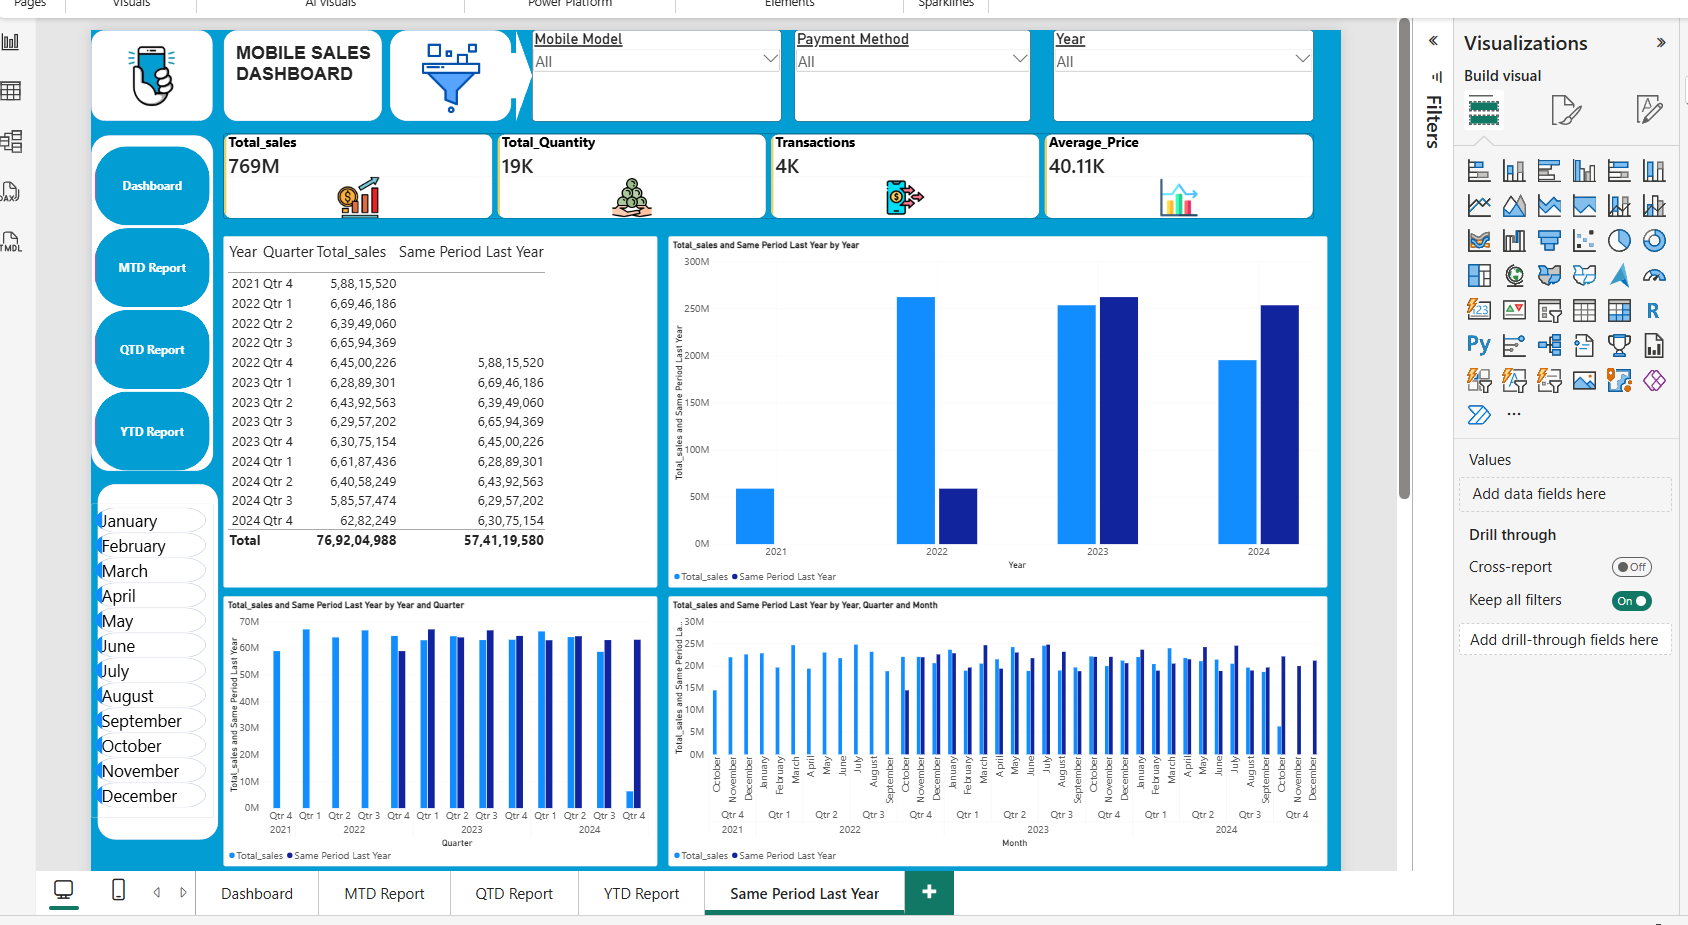

This screenshot's page, from the dashboard's own definition file:
{"tool":"powerbi","page":{"name":"Same Period Last Year","canvas":[5000,6000],"ordinal":4},"visuals":[{"type":"shape","box":[0,0,487.8,364.5],"z":0},{"type":"image","box":[26.8,26.8,434.2,310.9],"z":1000},{"type":"shape","box":[0,420,490,1345],"z":2000},{"type":"shape","box":[25,1815,485,1425],"z":3000},{"type":"listSlicer","fields":{"Values":["Custom Calender.Date.Variation.Date Hierarchy.Month"]},"box":[0,1895,490,1255],"z":4000},{"type":"cardVisual","fields":{"Data":["Mobile Sales Data.Total_sales","Mobile Sales Data.Total_Quantity","Mobile Sales Data.Transactions","Mobile Sales Data.Average_Price"]},"box":[530,415,4360,340],"z":5000},{"type":"slicer","fields":{"Values":["Mobile Sales Data.Mobile Model"]},"box":[1765.2,0,995.7,365.2],"z":6000},{"type":"slicer","fields":{"Values":["Mobile Sales Data.Payment Method"]},"box":[2813,0,943.5,365.2],"z":7000},{"type":"shape","box":[1195.7,0,487,365.2],"z":8000},{"type":"slicer","fields":{"Values":["Custom Calender.Date.Variation.Date Hierarchy.Year"]},"box":[3850,0,1040,365],"z":9000},{"type":"image","box":[1243.5,52.2,391.3,287],"z":10000},{"type":"shape","box":[1634.8,0,130.4,365.2],"z":11000},{"type":"shape","box":[530.4,0,634.8,365.2],"z":12000},{"type":"textbox","box":[578.3,52.2,556.5,287],"z":14000},{"type":"tableEx","fields":{"Values":["Custom Calender.Date.Variation.Date Hierarchy.Year","Custom Calender.Date.Variation.Date Hierarchy.Quarter","Mobile Sales Data.Total_sales","Mobile Sales Data.Same Period Last Year"]},"box":[530,825,1735,1405],"z":15000},{"type":"clusteredColumnChart","fields":{"Category":["Custom Calender.Date.Variation.Date Hierarchy.Year","Custom Calender.Date.Variation.Date Hierarchy.Quarter"],"Y":["Mobile Sales Data.Total_sales","Mobile Sales Data.Same Period Last Year"]},"box":[2310,825,2635,1405],"z":16000},{"type":"clusteredColumnChart","fields":{"Y":["Mobile Sales Data.Total_sales","Mobile Sales Data.Same Period Last Year"],"Category":["Custom Calender.Date.Variation.Date Hierarchy.Year","Custom Calender.Date.Variation.Date Hierarchy.Quarter","Custom Calender.Date.Variation.Date Hierarchy.Month"]},"box":[2310,2265,2635,1080],"z":17000},{"type":"clusteredColumnChart","fields":{"Category":["Custom Calender.Date.Variation.Date Hierarchy.Year","Custom Calender.Date.Variation.Date Hierarchy.Quarter"],"Y":["Mobile Sales Data.Total_sales","Mobile Sales Data.Same Period Last Year"]},"box":[530,2265,1735,1080],"z":18000},{"type":"pageNavigator","box":[15,465,460,1300],"z":19000}]}

Visuals, with their boxes on the page's 5000x6000 design canvas (x1, y1, x2, y2). These are canvas units, not pixel positions in the 1688x925 screenshot, which may show the page scaled, cropped or inside an application window:
shape: select_region(0, 0, 488, 364)
image: select_region(27, 27, 461, 338)
shape: select_region(0, 420, 490, 1765)
shape: select_region(25, 1815, 510, 3240)
listSlicer - Custom Calender.Date.Variation.Date Hierarchy.Month: select_region(0, 1895, 490, 3150)
cardVisual - Mobile Sales Data.Total_sales x Mobile Sales Data.Total_Quantity: select_region(530, 415, 4890, 755)
slicer - Mobile Sales Data.Mobile Model: select_region(1765, 0, 2761, 365)
slicer - Mobile Sales Data.Payment Method: select_region(2813, 0, 3756, 365)
shape: select_region(1196, 0, 1683, 365)
slicer - Custom Calender.Date.Variation.Date Hierarchy.Year: select_region(3850, 0, 4890, 365)
image: select_region(1244, 52, 1635, 339)
shape: select_region(1635, 0, 1765, 365)
shape: select_region(530, 0, 1165, 365)
textbox: select_region(578, 52, 1135, 339)
tableEx - Custom Calender.Date.Variation.Date Hierarchy.Year x Custom Calender.Date.Variation.Date Hierarchy.Quarter: select_region(530, 825, 2265, 2230)
clusteredColumnChart - Custom Calender.Date.Variation.Date Hierarchy.Year x Custom Calender.Date.Variation.Date Hierarchy.Quarter: select_region(2310, 825, 4945, 2230)
clusteredColumnChart - Mobile Sales Data.Total_sales x Mobile Sales Data.Same Period Last Year: select_region(2310, 2265, 4945, 3345)
clusteredColumnChart - Custom Calender.Date.Variation.Date Hierarchy.Year x Custom Calender.Date.Variation.Date Hierarchy.Quarter: select_region(530, 2265, 2265, 3345)
pageNavigator: select_region(15, 465, 475, 1765)
